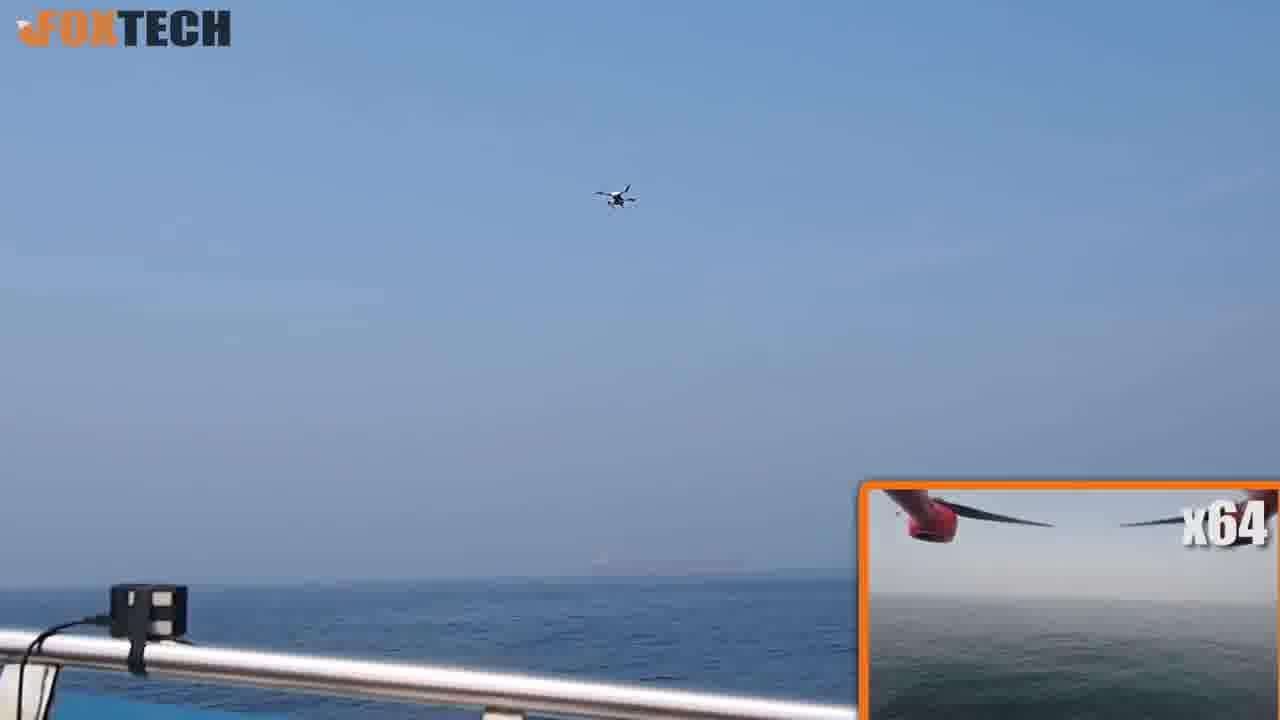drone: (590, 186, 640, 210)
